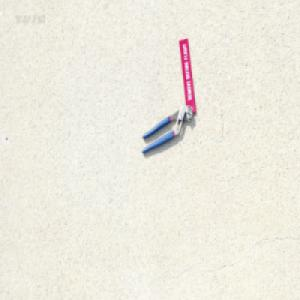Label: (179, 39, 196, 113)
Pliers: (141, 104, 192, 154)
